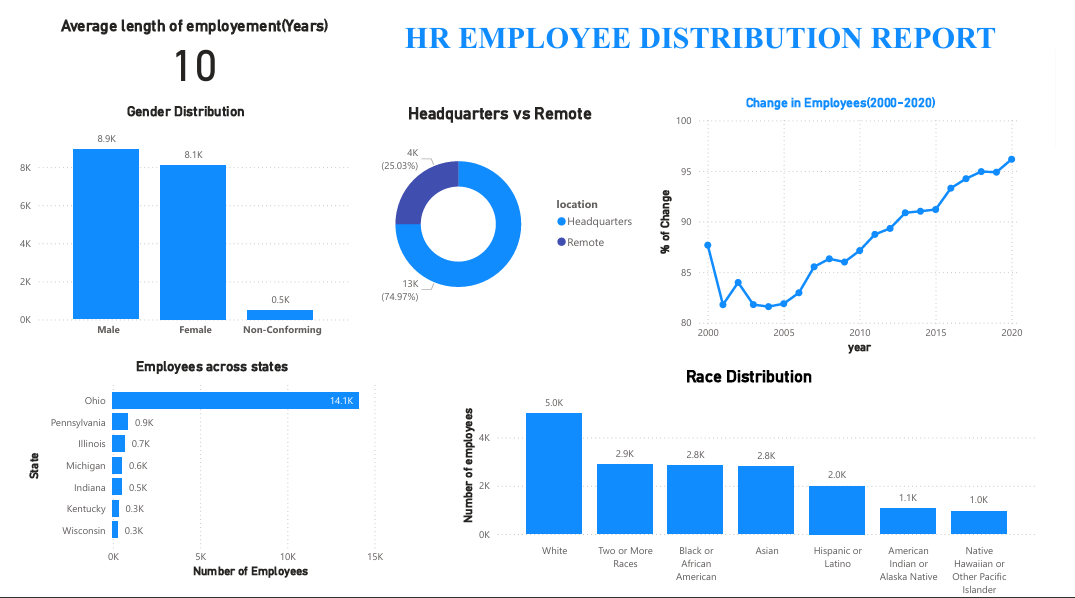

Layout of this report page (visuals, bound fields, positions):
{"tool":"powerbi","page":{"name":"Page 1","canvas":[1280,720],"ordinal":0},"visuals":[{"type":"textbox","box":[474.3,0,805.7,74.3],"z":0},{"type":"card","title":"Average length of employement(Years)","fields":{"Values":["Sum(avg_tenure(5).Avg_length_employement_in_years)"]},"box":[0,0,440,85.7],"z":1000},{"type":"columnChart","title":"Gender Distribution","fields":{"Category":["gender(1).gender"],"Y":["Sum(gender(1).Number_of_employees)"]},"box":[0,107.1,418.6,295.7],"z":2000},{"type":"donutChart","title":"Headquarters vs Remote","fields":{"Category":["work_style(4).location"],"Y":["Sum(work_style(4).Number_of_employees)"]},"box":[418.6,107.1,354.3,274.3],"z":3000},{"type":"lineChart","title":"Change in Employees(2000-2020)","fields":{"Category":["yearly_hires_and_terminations(10).year"],"Y":["Sum(yearly_hires_and_terminations(10).net_change_percent)"]},"box":[785.7,95.7,458.6,324.3],"z":4000},{"type":"barChart","title":"Employees across states","fields":{"Y":["Sum(location_distribution(9).count)"],"Category":["location_distribution(9).location_state"]},"box":[10,420,464.3,275.7],"z":5000},{"type":"clusteredColumnChart","title":"Race Distribution","fields":{"Y":["Sum(race(2).Number_of_employees)"],"Category":["race(2).race"]},"box":[544.3,431.4,717.1,288.6],"z":6000}]}

Visuals, with their boxes in screenshot pixels (x1, y1, x2, y2), scaled from the page's 1280x720 canvas onto the 1075x598 screenshot:
textbox: [398,0,1074,62]
"Average length of employement(Years)" card: [0,0,370,71]
"Gender Distribution" columnChart: [0,89,352,335]
"Headquarters vs Remote" donutChart: [352,89,649,317]
"Change in Employees(2000-2020)" lineChart: [660,79,1045,349]
"Employees across states" barChart: [8,349,398,578]
"Race Distribution" clusteredColumnChart: [457,358,1059,597]
